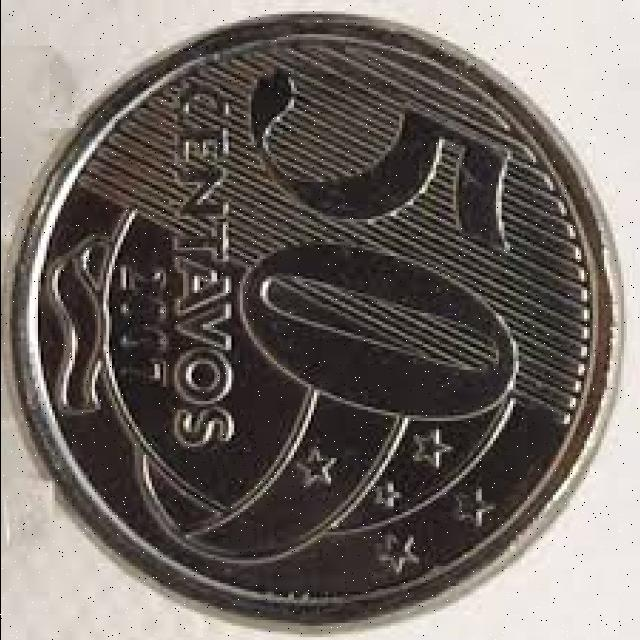50 cent: (18, 13, 628, 632)
